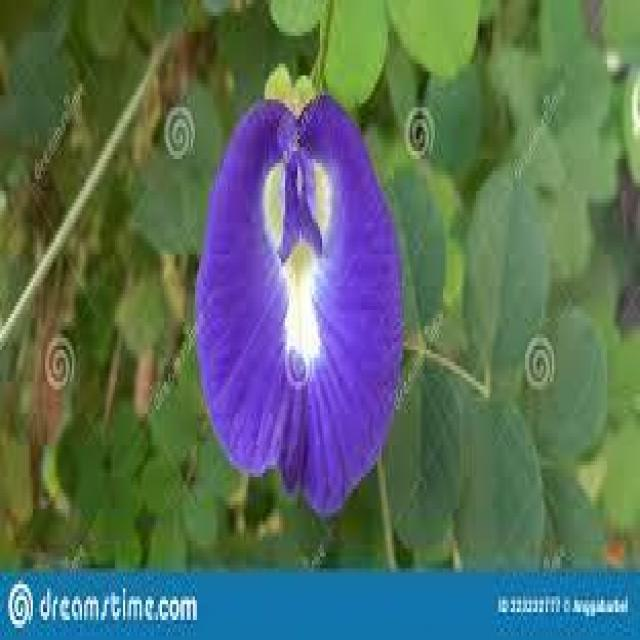organic waste: (199, 75, 408, 501)
